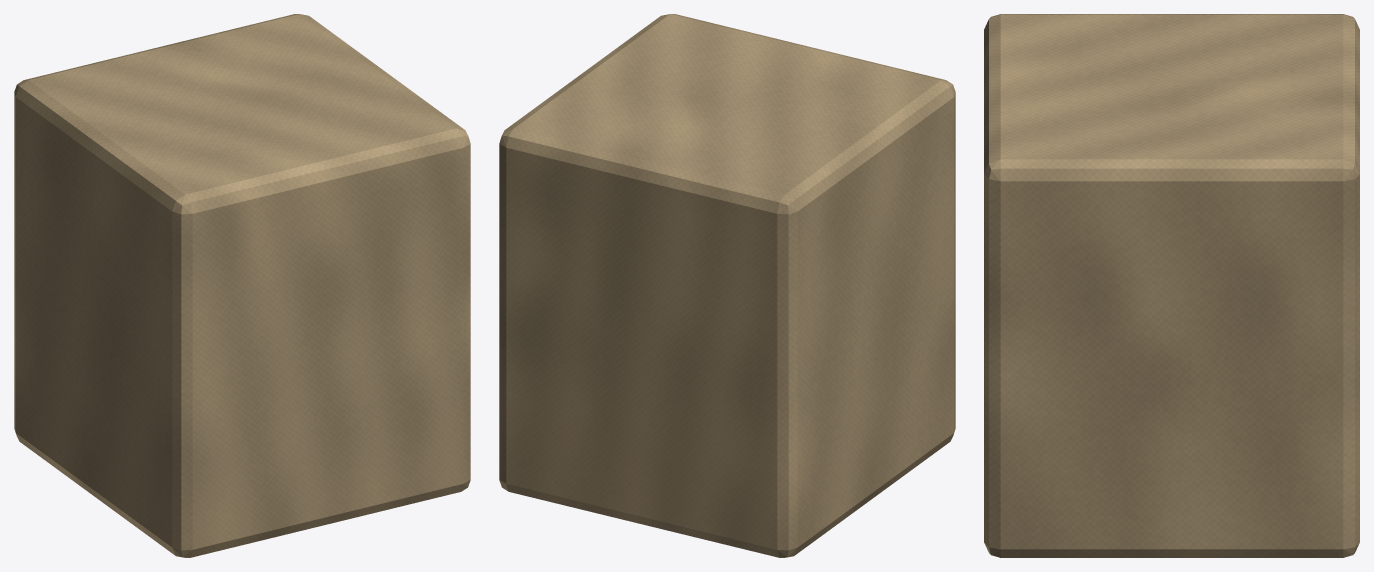
The model's file is RightUpperArm.fbx.
3 renders of one model, left to right at view 1: azimuth 30°, elevation 25°; view 2: azimuth 150°, elevation 25°; view 3: azimuth 270°, elevation 25°, orthographic. The views are drawn at different scales.
Parts seen in each view (by area): view 1: RightUpperArm; view 2: RightUpperArm; view 3: RightUpperArm.
Boxes of the visible parts, box(x1,y1,x2,y2) form: RightUpperArm: box(14, 14, 470, 557); RightUpperArm: box(499, 14, 955, 557); RightUpperArm: box(984, 14, 1359, 557).
Bounding box in the file's own units: 1 × 1.17 × 1.
1 material, 1 textured.
